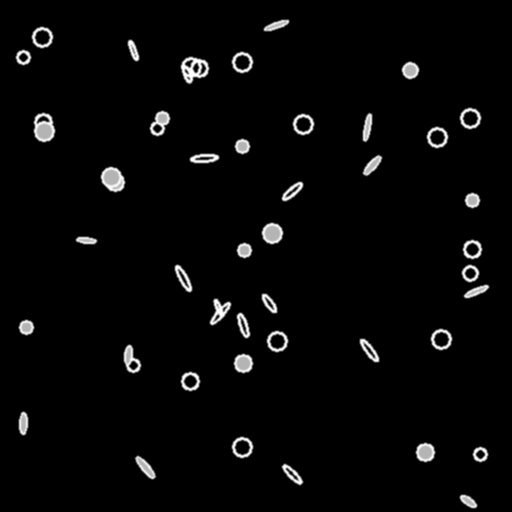pseudomonas: (173, 264, 193, 292), (209, 301, 231, 325), (134, 455, 156, 479), (358, 338, 380, 362), (281, 463, 303, 485), (281, 181, 303, 201), (362, 154, 382, 176), (260, 293, 278, 313), (236, 313, 250, 337), (464, 284, 488, 298), (264, 19, 288, 31), (362, 113, 372, 141), (127, 39, 139, 61), (459, 494, 477, 508), (212, 298, 224, 316), (181, 65, 193, 83), (191, 154, 217, 162), (19, 412, 27, 434), (76, 236, 96, 244), (124, 346, 132, 364)
synechocystis: (428, 128, 446, 146), (294, 115, 312, 133), (33, 28, 51, 46), (233, 53, 251, 71), (268, 332, 286, 350), (233, 438, 251, 456), (263, 224, 281, 242), (182, 58, 200, 76), (35, 122, 53, 140), (461, 109, 479, 127), (102, 168, 120, 186), (432, 330, 450, 348), (107, 174, 123, 190), (417, 444, 433, 460), (464, 241, 480, 257), (182, 373, 198, 389), (35, 114, 51, 130), (191, 60, 207, 76), (235, 355, 251, 371), (403, 63, 417, 77), (463, 266, 477, 280), (151, 122, 163, 134), (17, 51, 29, 63), (127, 359, 139, 371), (238, 244, 250, 256), (20, 321, 32, 333), (474, 448, 486, 460), (236, 140, 248, 152), (156, 112, 168, 124), (466, 194, 478, 206)
